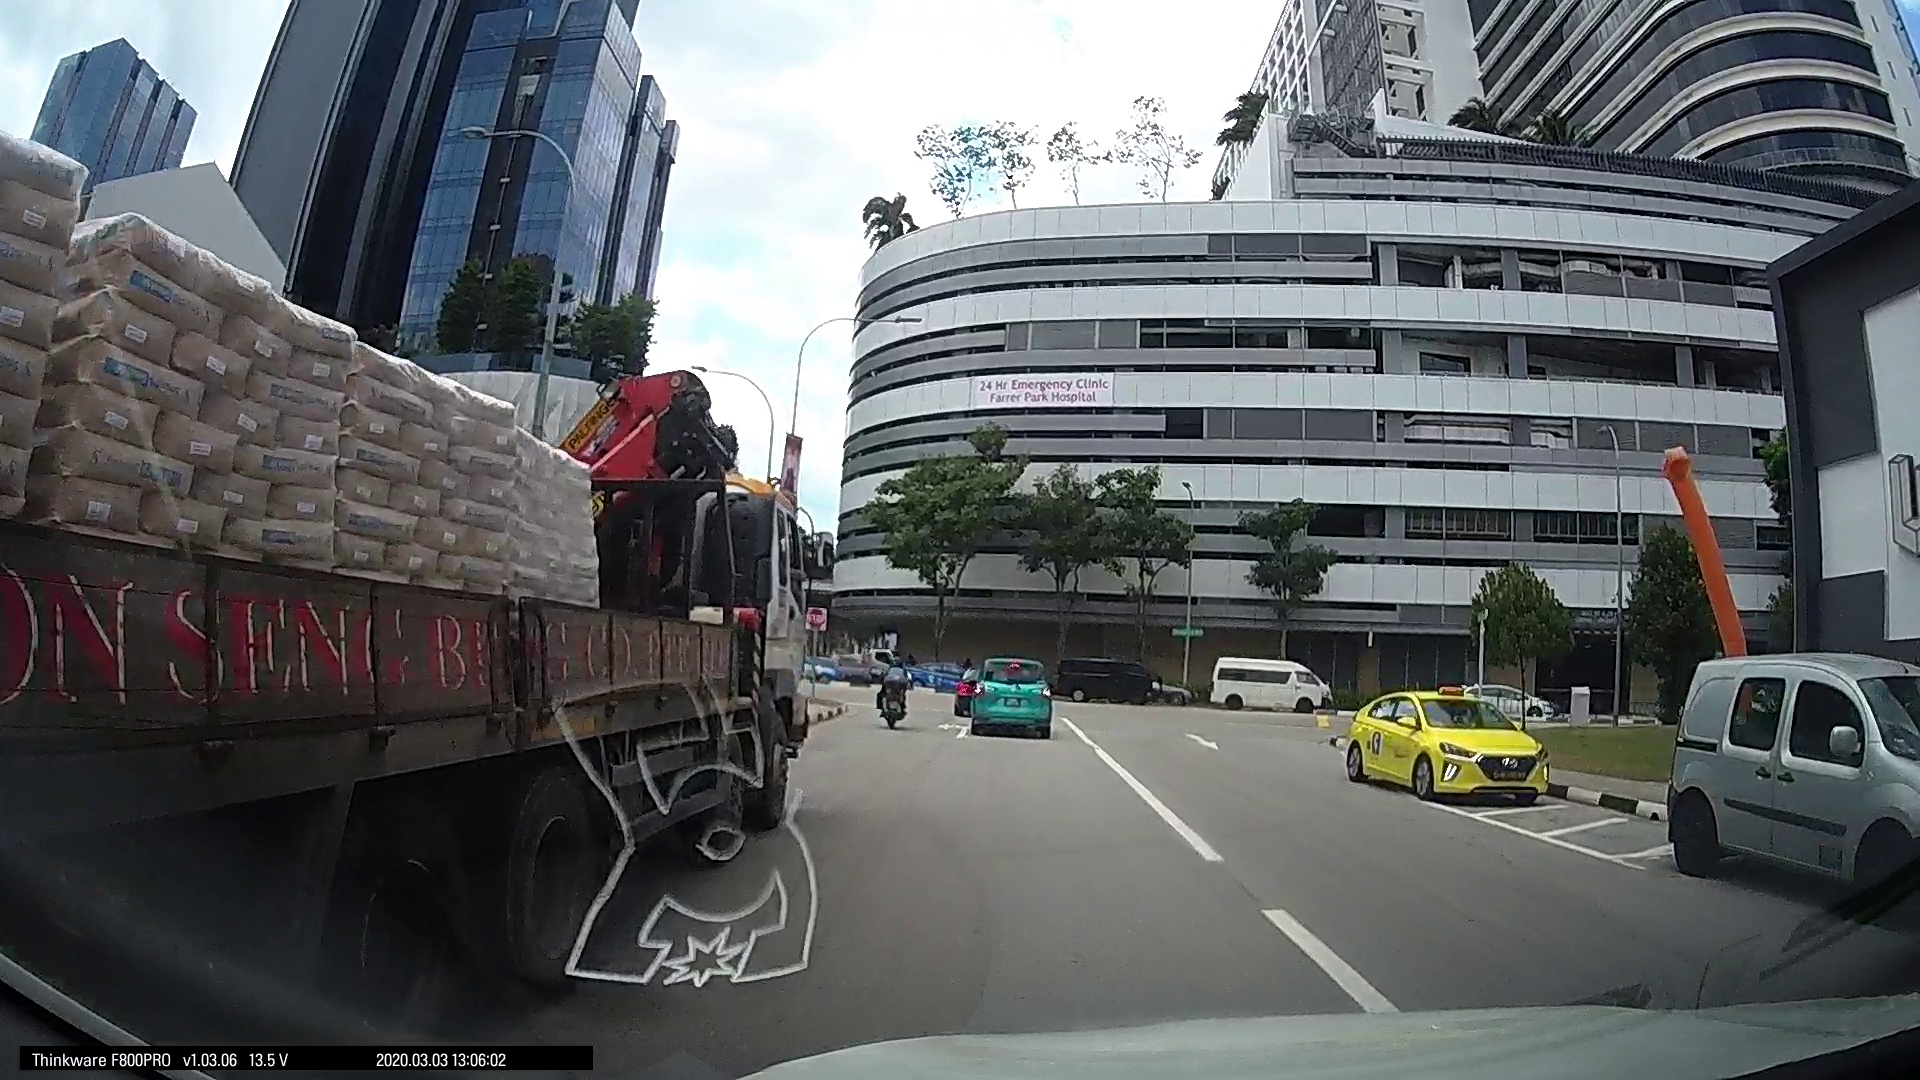Heavy Vehicle: (26, 223, 820, 993)
Light Vehicle: (1654, 649, 1919, 909), (1337, 680, 1557, 808), (1199, 651, 1325, 716), (963, 654, 1054, 737), (1054, 647, 1160, 702)
